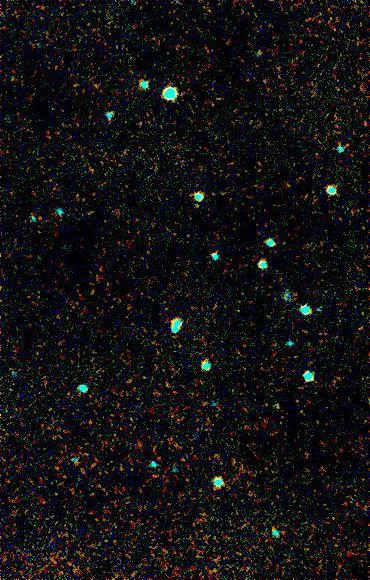star: (181, 194, 211, 224)
